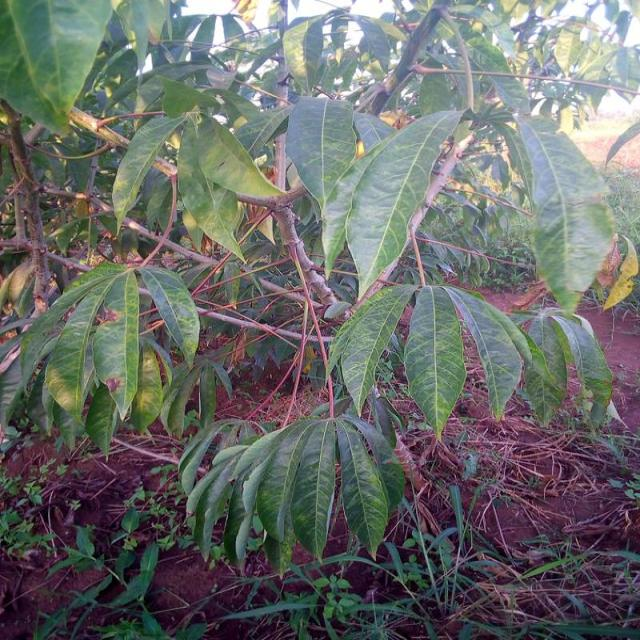cassava leaf: (345, 108, 465, 301), (517, 115, 615, 316), (0, 0, 113, 138), (326, 281, 416, 416), (404, 284, 466, 441)
